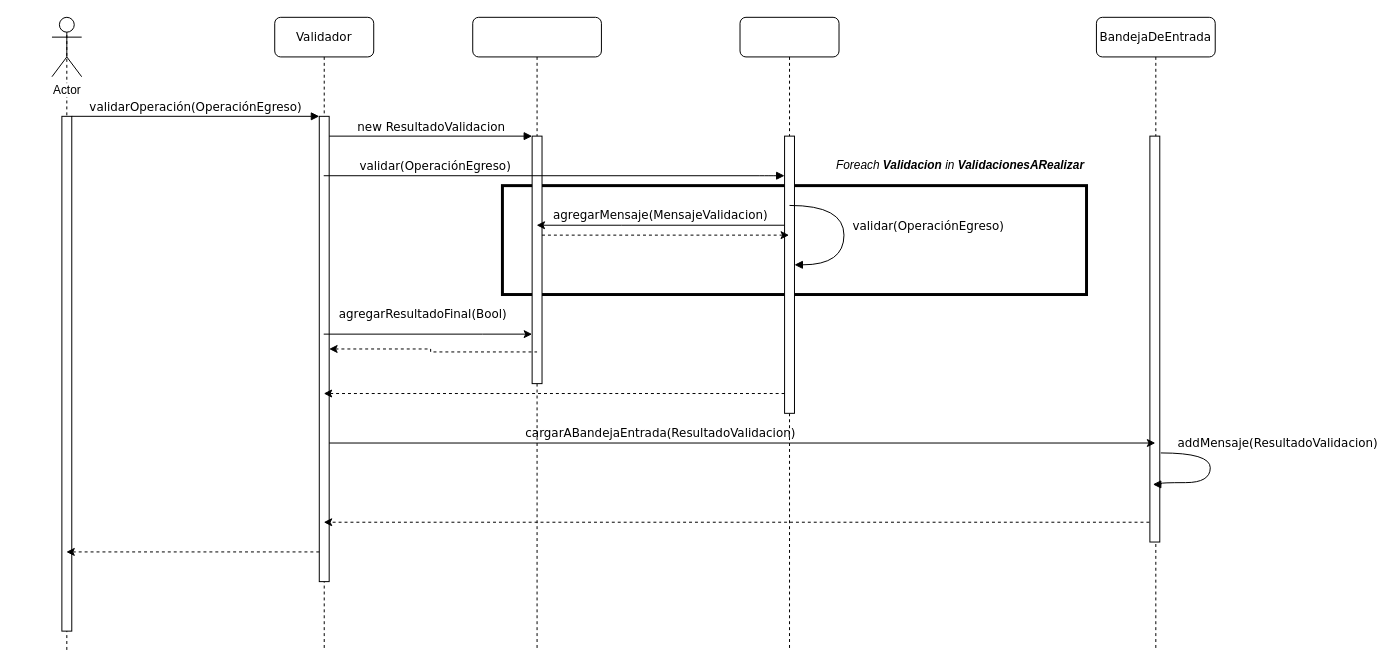
This 1395x668 diagram has some shape labels left out. The box of each missing label's shape, as (x1, y1, x2, y2) in pixels:
ResultadoValidacion: (472, 16, 601, 651)
Validacion: (739, 16, 839, 651)
